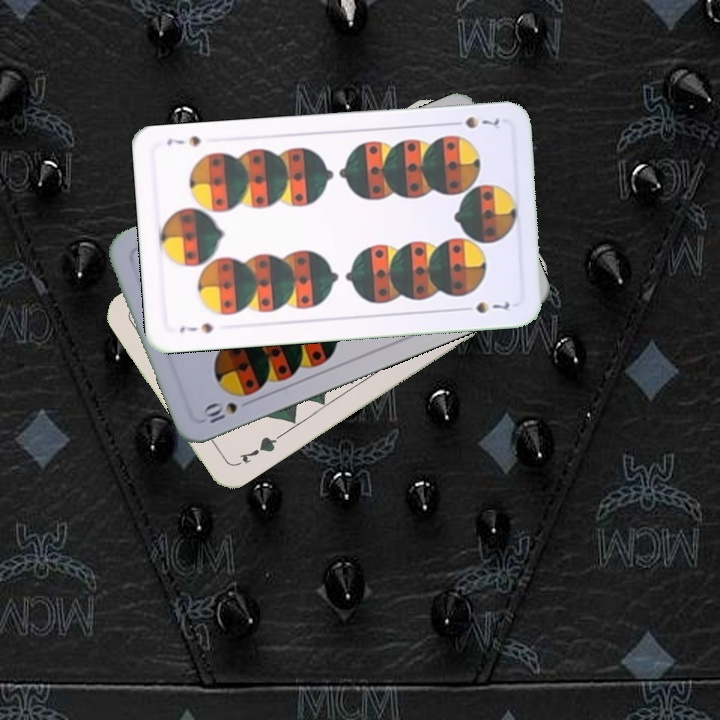G7: (229, 431, 282, 470)
S10: (198, 395, 256, 429)
S7: (446, 112, 502, 131), (176, 319, 216, 336)
